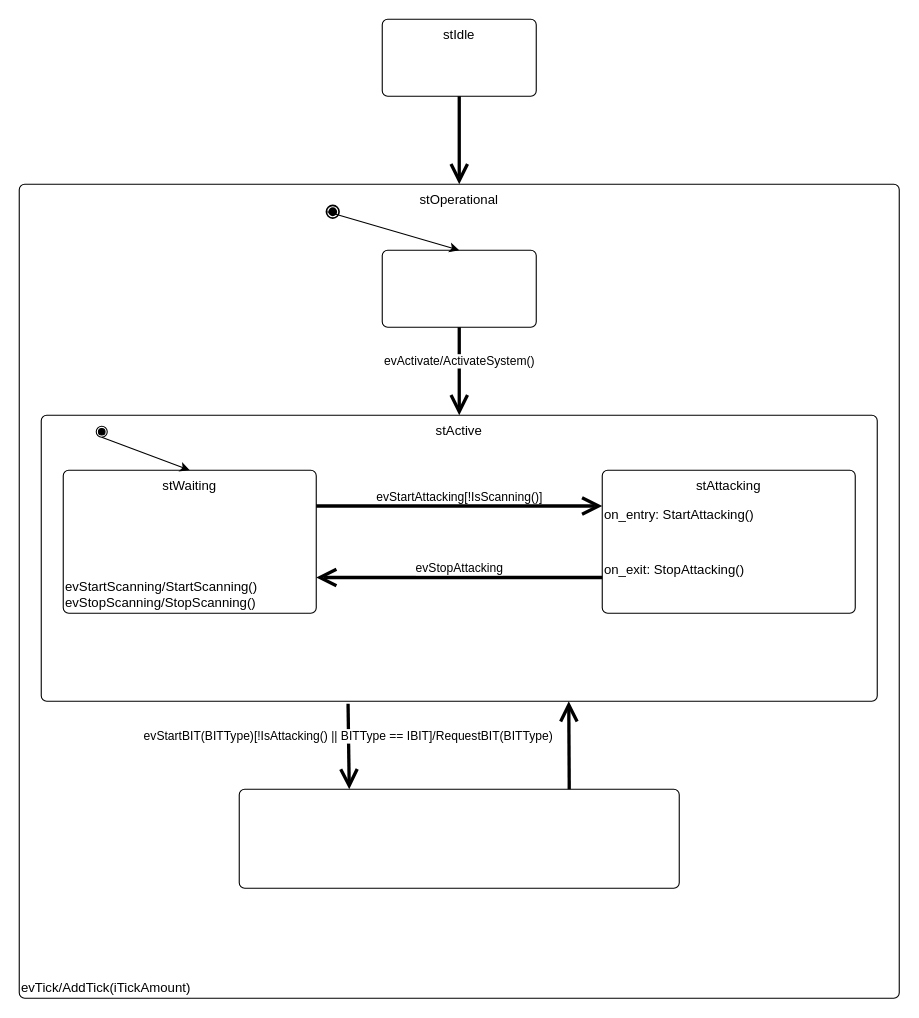
The diagram is 919 pixels wide and 1018 high, and some of its shapes have lost their labels. Here are the shapes that lost their labels. From the top down, the centre of each, then its label:
the point at 458,288: stStartUp
the point at 458,838: stBIT
